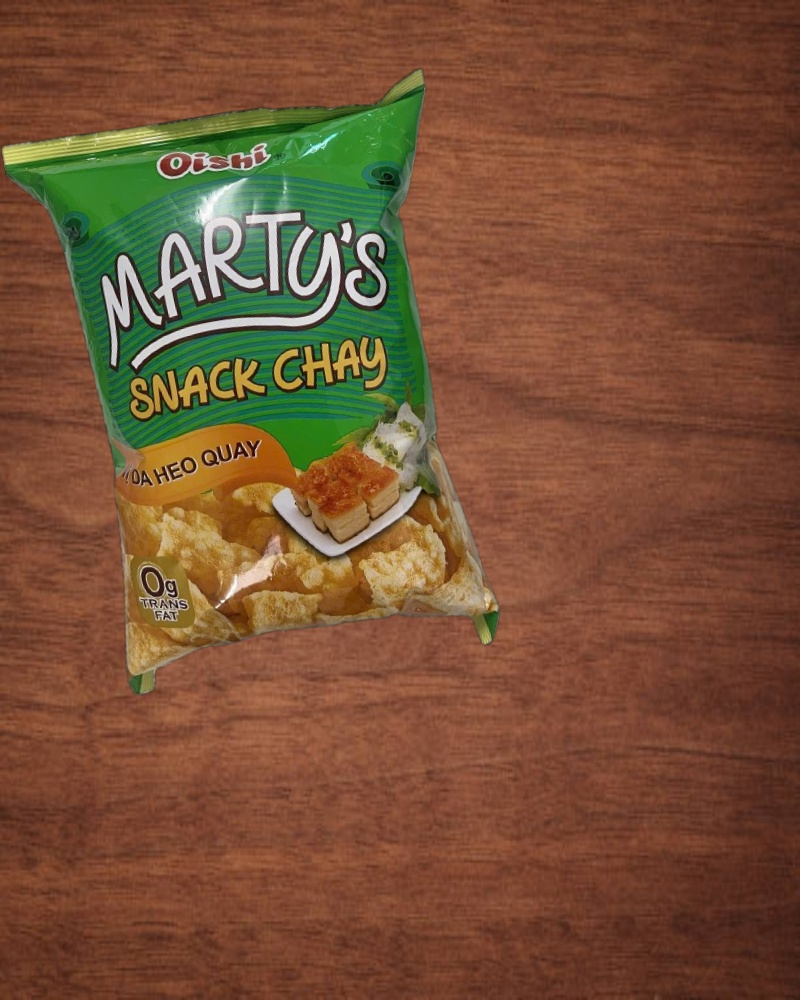Snack chay: (1, 68, 524, 714)
